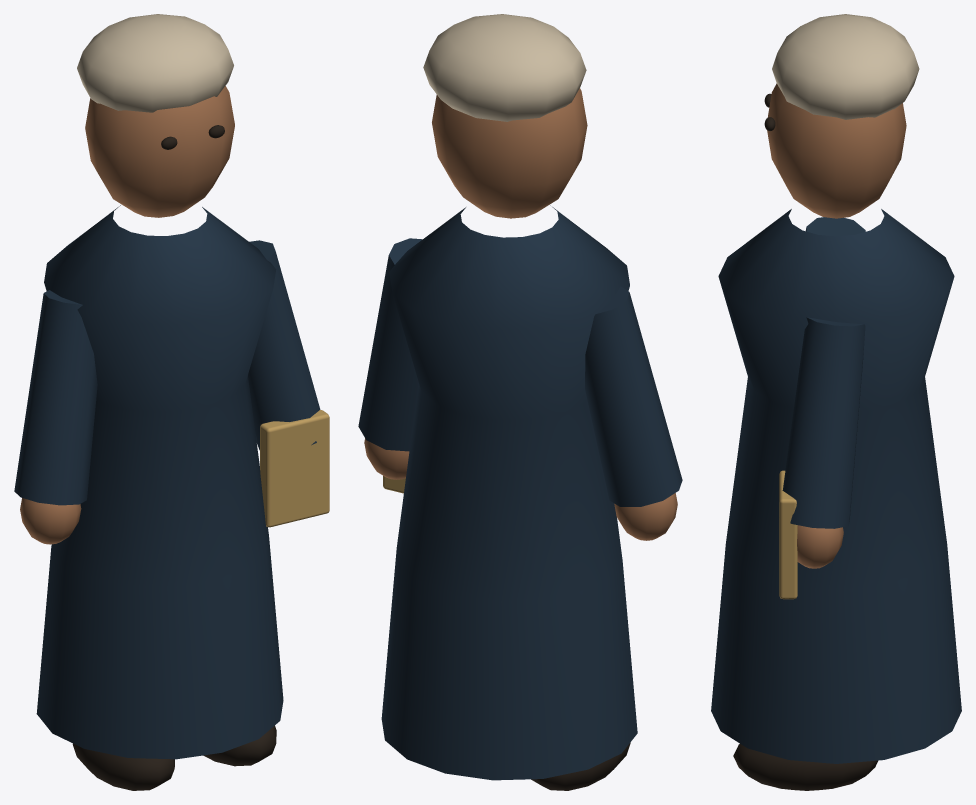
Rendered from astrology-advisor.glb.
3 views of the same model, side by side, from view 1: azimuth 30°, elevation 25°; view 2: azimuth 150°, elevation 25°; view 3: azimuth 270°, elevation 25° (orthographic). The views are drawn at different scales.
Visible parts, largest first — view 1: Astrology_figure; view 2: Astrology_figure; view 3: Astrology_figure.
Boxes of the visible parts, box(x1,y1,x2,y2) form: Astrology_figure: box(14, 14, 329, 790); Astrology_figure: box(358, 14, 682, 790); Astrology_figure: box(711, 14, 961, 790).
Size of the model in its own units: 0.9557 by 2.2 by 0.68.
